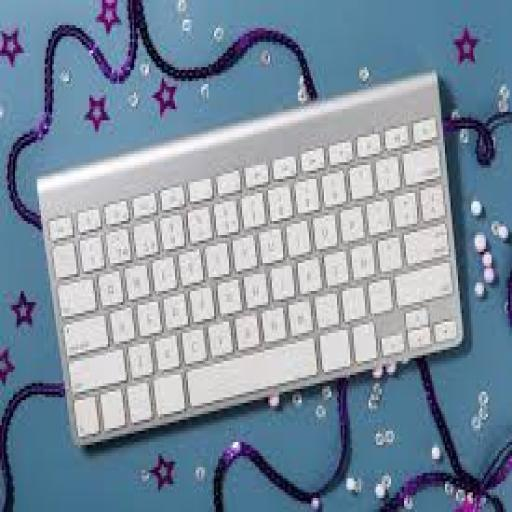keyboard: (37, 73, 462, 442)
